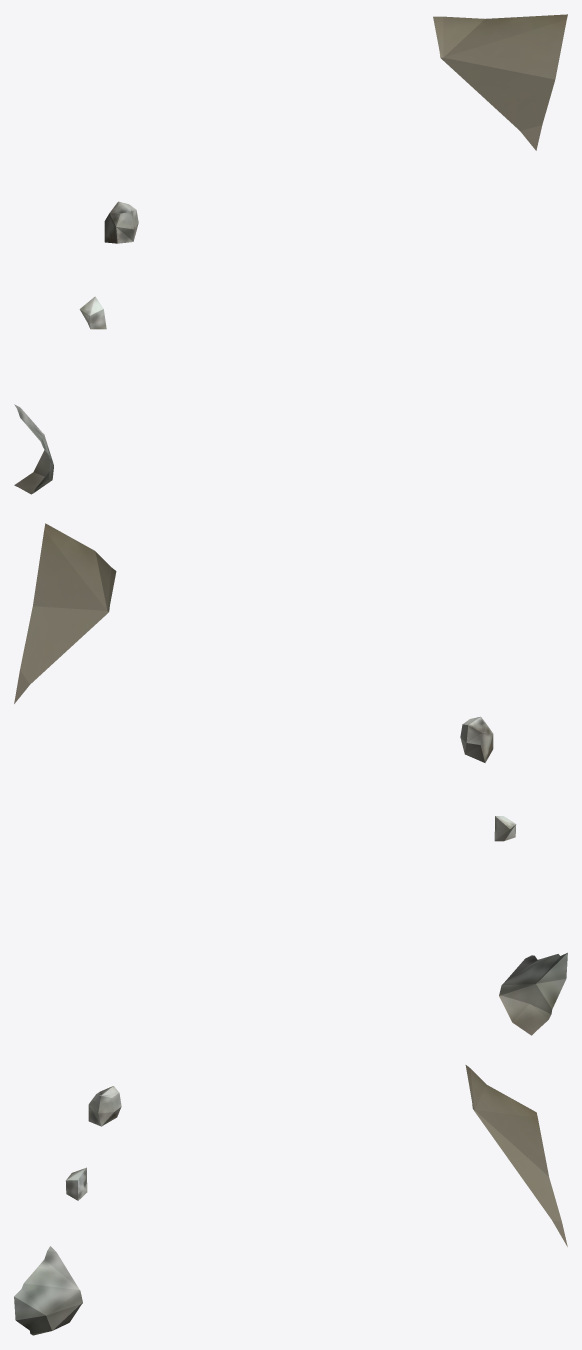
3 views of the same model, one above another, from view 1: azimuth 30°, elevation 25°; view 2: azimuth 150°, elevation 25°; view 3: azimuth 330°, elevation 25° (orthographic).
Bounding box in the file's own units: 1.67 × 1.12 × 0.2036.
Materials: 1 (1 with a texture image).
